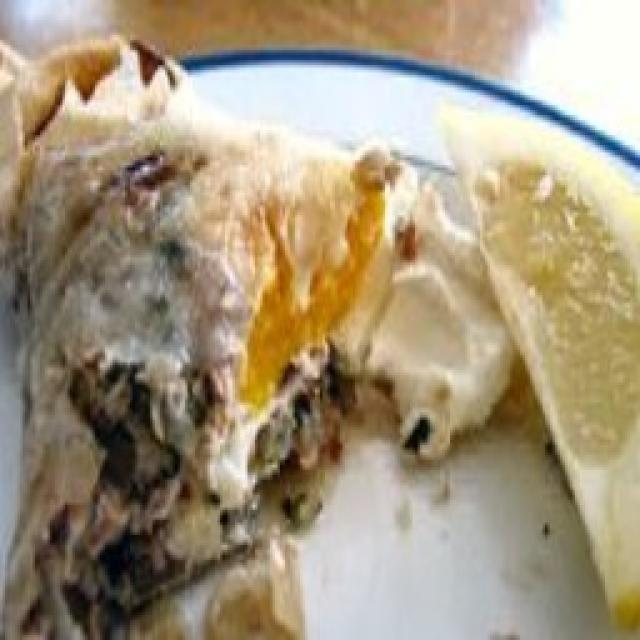Brik: (0, 41, 514, 639)
